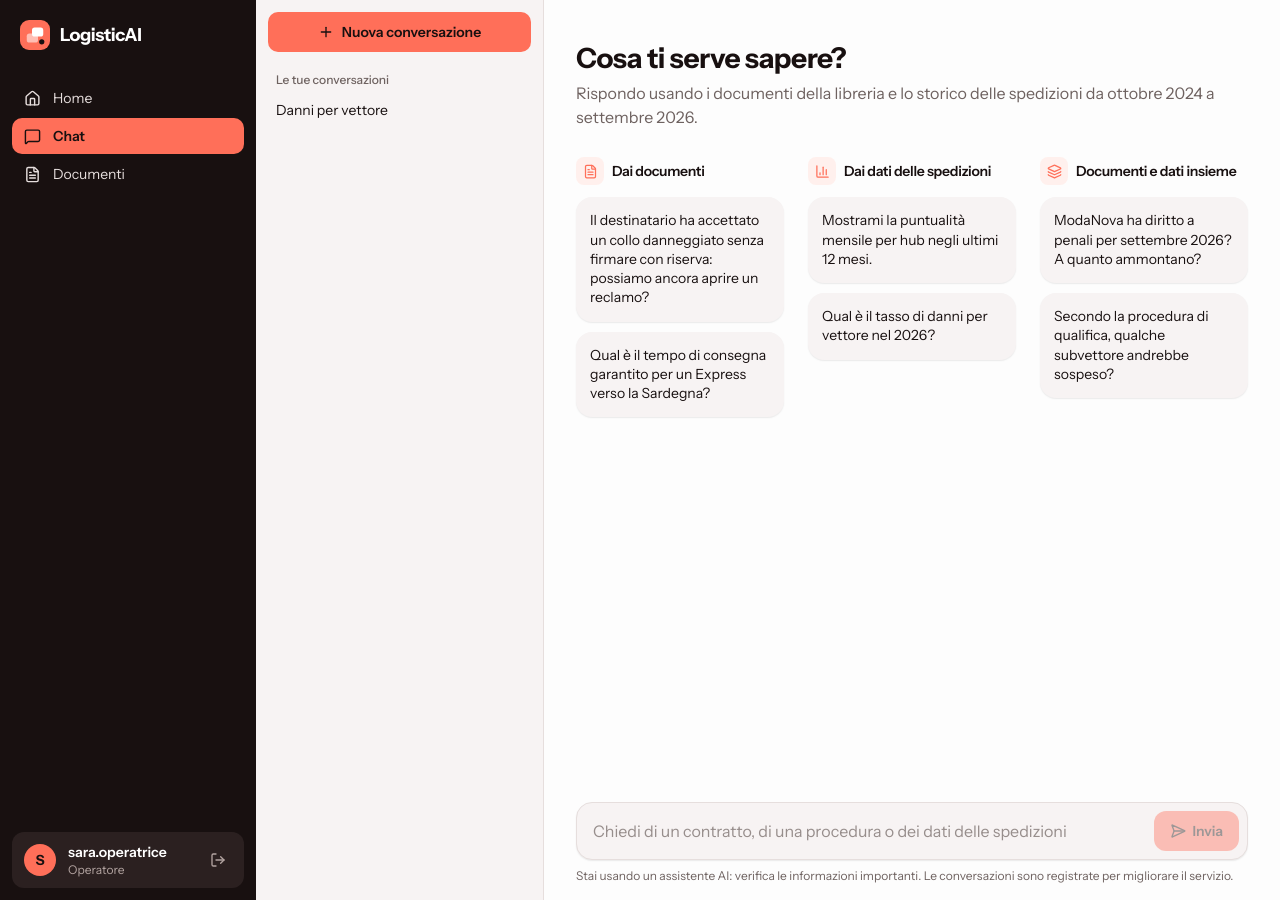
Test case: chat › riapre una conversazione salvata dalla sidebar
Click the link "Danni per vettore".
click(332, 110)  # box [276,101,388,119]
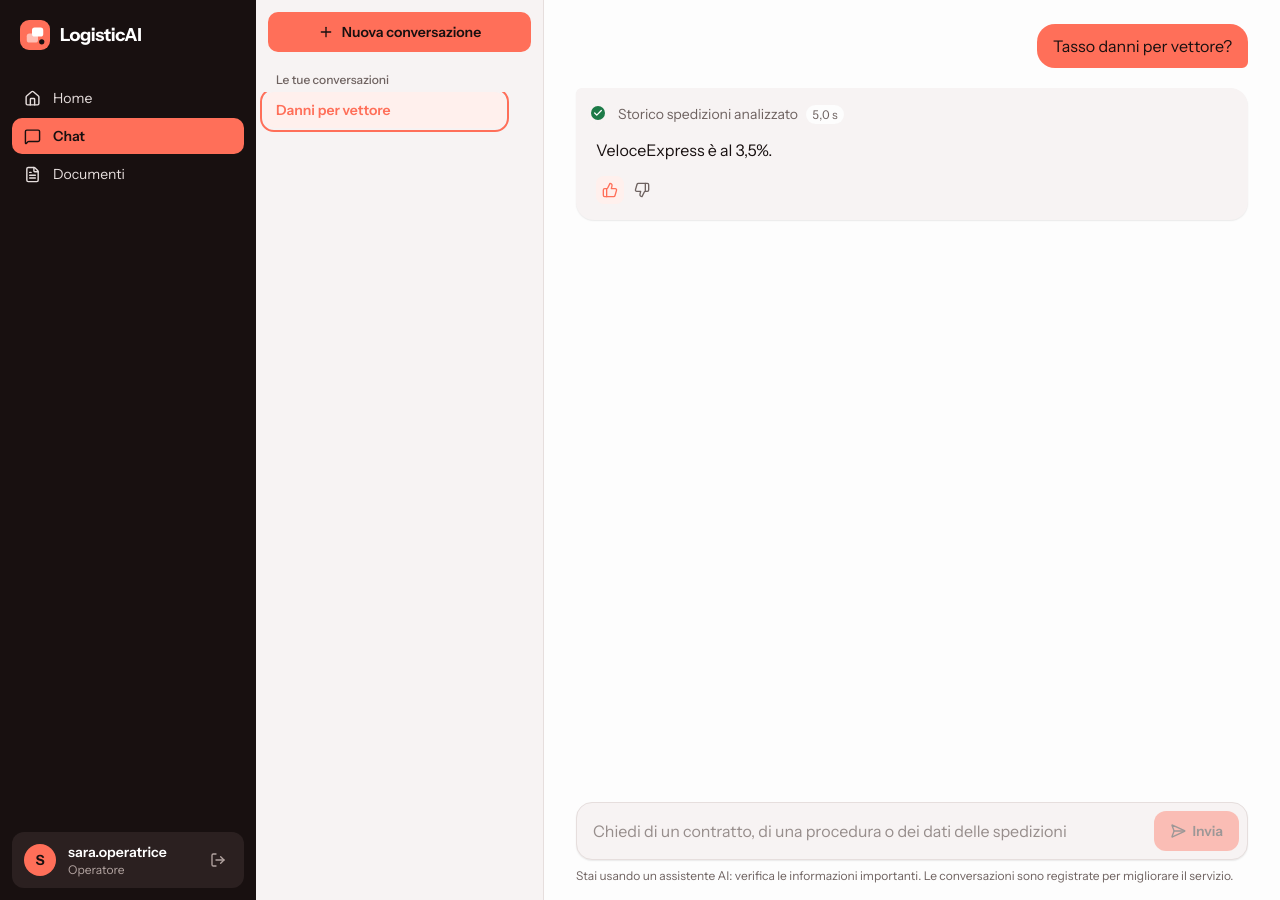
Expected: the text "VeloceExpress è al 3,5%." is shown, [596,140,772,160]
Expected: the text "Storico spedizioni analizzato" is shown, [618,105,798,123]
